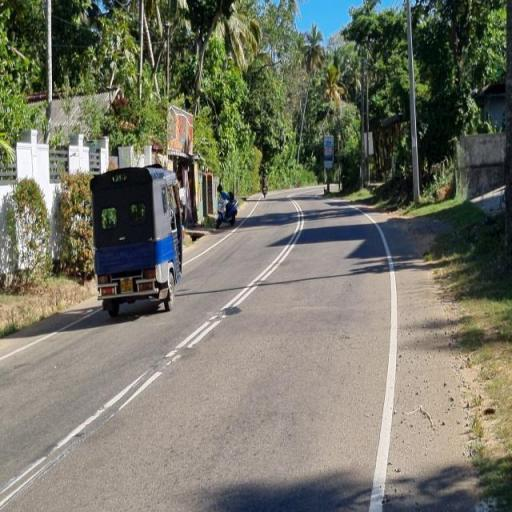double_white_line: (165, 200, 303, 363)
